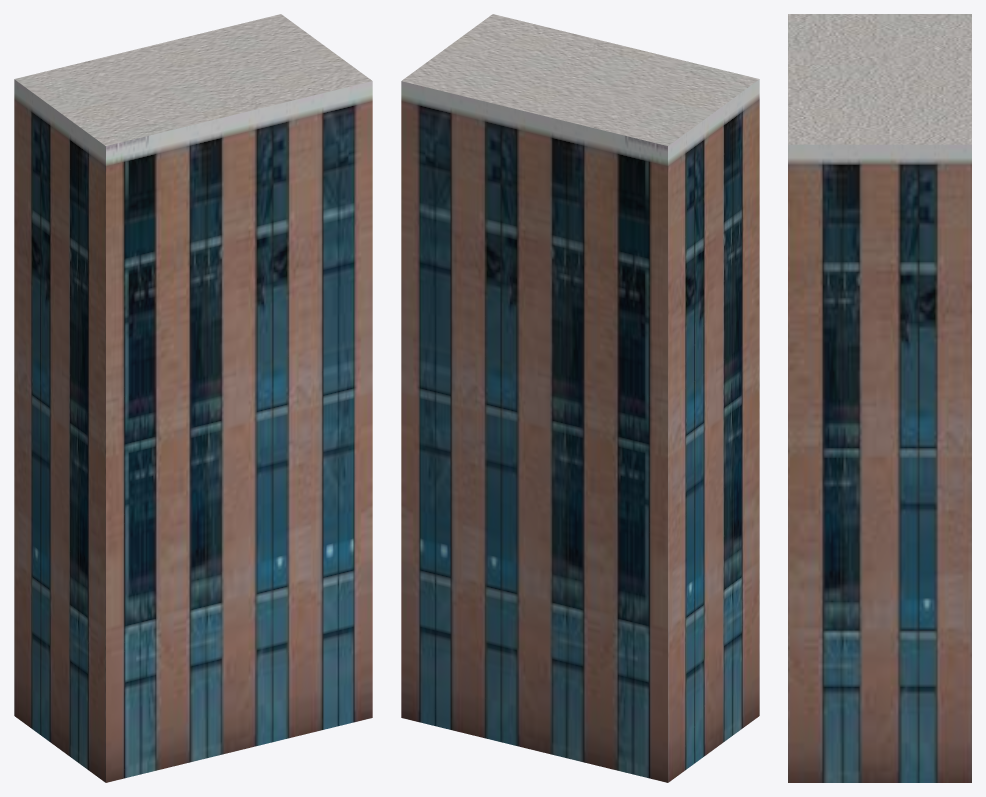
Rendered from building_021.glb.
3 renders of one model, left to right at view 1: azimuth 30°, elevation 25°; view 2: azimuth 150°, elevation 25°; view 3: azimuth 270°, elevation 25°, orthographic.
Parts seen in each view (by area): view 1: building_021.001; view 2: building_021.001; view 3: building_021.001.
Boxes of the visible parts, x1=… form: building_021.001: x1=14, y1=14, x2=372, y2=782; building_021.001: x1=401, y1=14, x2=759, y2=782; building_021.001: x1=788, y1=14, x2=971, y2=782.
Size of the model in its own units: 15.13 by 34.5 by 9.
Materials: 2 (2 with a texture image).
